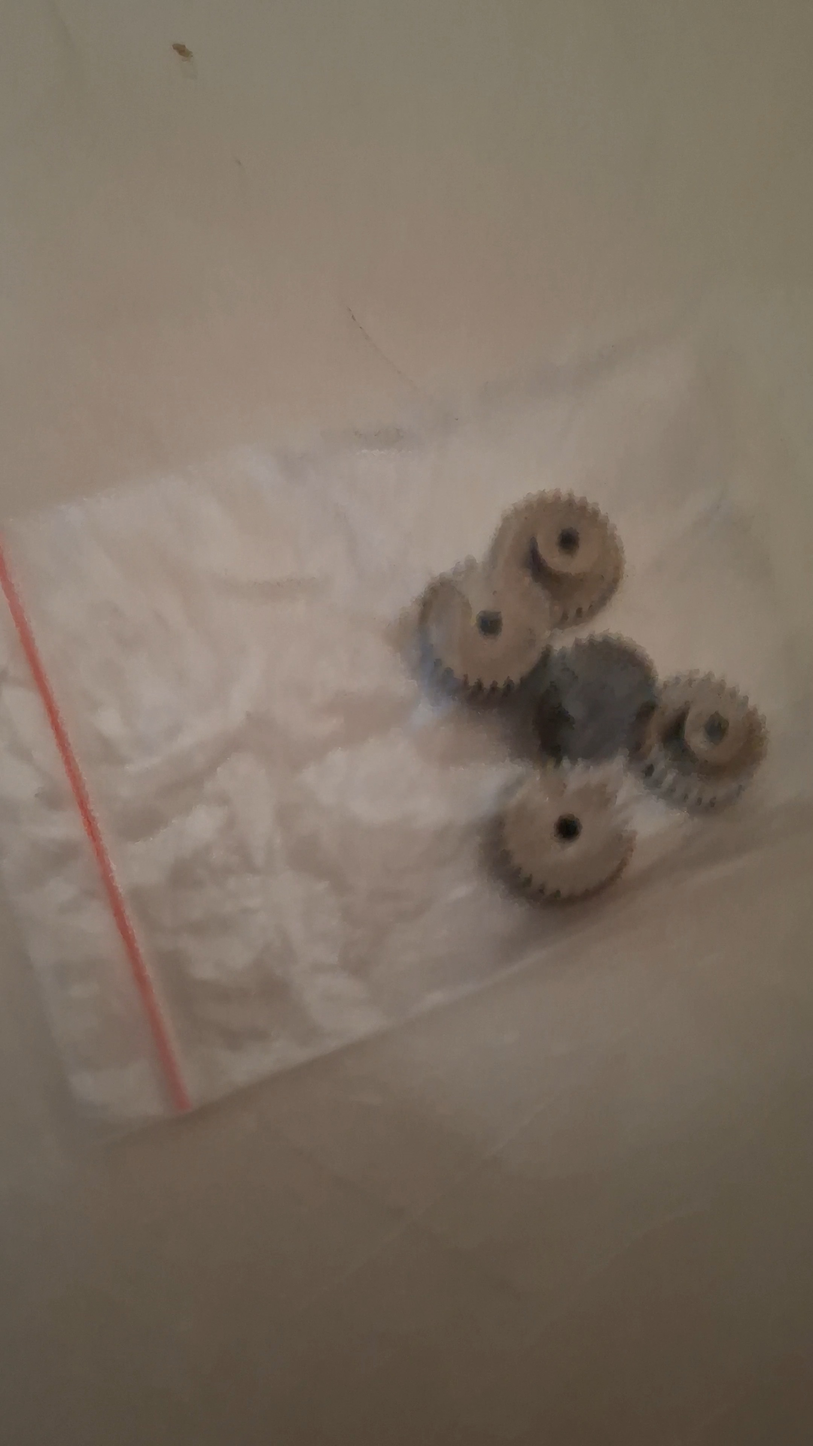spur gear: (487, 492, 623, 627), (497, 767, 634, 901), (635, 674, 767, 811), (420, 560, 550, 693), (527, 635, 657, 761)
